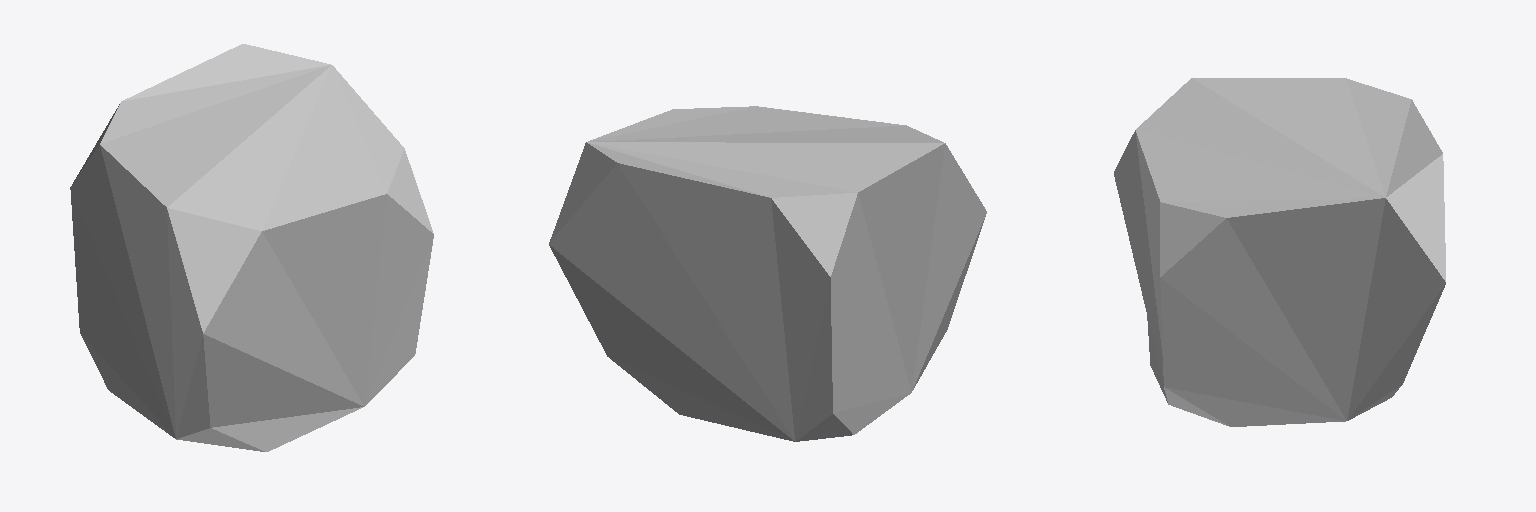
The model's file is particle.obj.
3 renders of one model, left to right at view 1: azimuth 30°, elevation 25°; view 2: azimuth 150°, elevation 25°; view 3: azimuth 270°, elevation 25°, orthographic.
Visible parts, largest first — view 1: Cube_Cube.001; view 2: Cube_Cube.001; view 3: Cube_Cube.001.
Part boxes in pixels (x1,y1,x2,y2): Cube_Cube.001: (70,44,433,451); Cube_Cube.001: (549,106,986,441); Cube_Cube.001: (1114,78,1445,426).
Size of the model in its own units: 1.29 by 1.23 by 1.37.